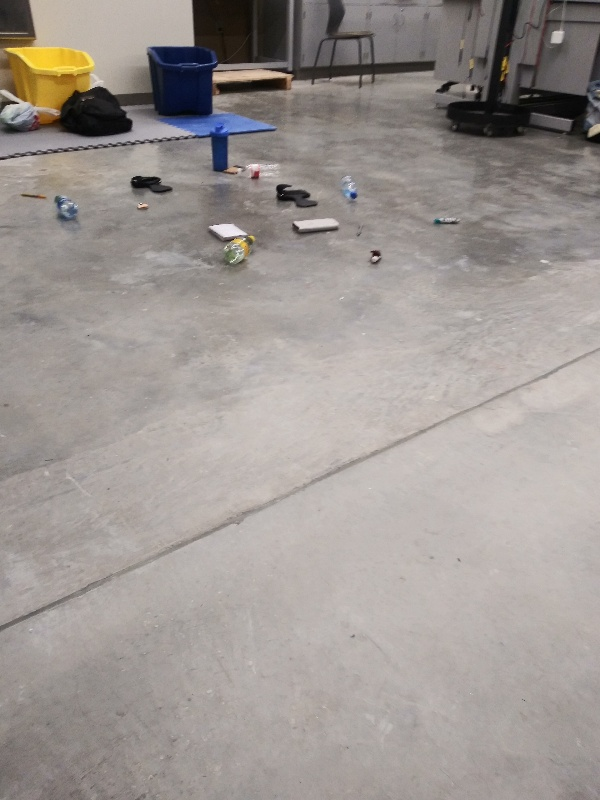bottle: (220, 234, 258, 268), (235, 161, 283, 181), (51, 192, 81, 220), (338, 173, 361, 203)
